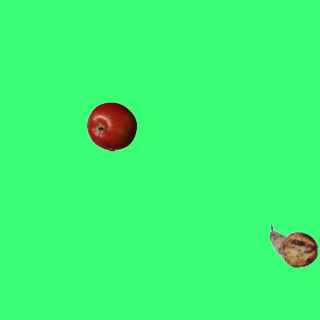Apple Braeburn: (86, 101, 136, 151)
Pear Abate: (268, 220, 318, 270)
